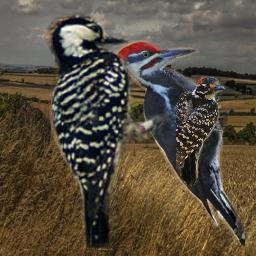Woodpecker: (44, 10, 169, 250), (111, 40, 245, 246), (176, 75, 225, 190)
